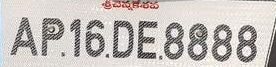character: (38, 17, 65, 58), (10, 17, 38, 56), (83, 17, 106, 58), (111, 19, 134, 59), (136, 19, 158, 60), (186, 23, 208, 62), (211, 24, 233, 62), (237, 24, 258, 63), (163, 22, 185, 59), (68, 17, 82, 58)
